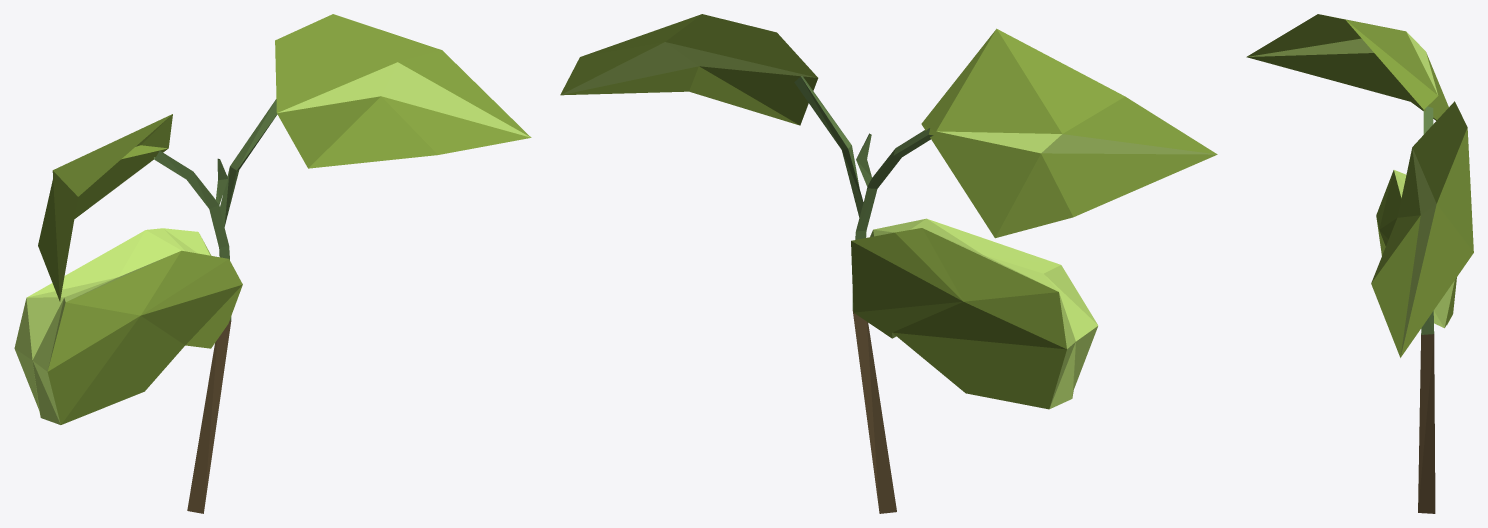
File: Beans_2.fbx
The picture shows the model from 3 angles, left to right: view 1: azimuth 30°, elevation 25°; view 2: azimuth 150°, elevation 25°; view 3: azimuth 270°, elevation 25°; orthographic projection. The views are drawn at different scales.
Visible parts, largest first — view 1: Beans_3; view 2: Beans_3; view 3: Beans_3.
Part boxes in pixels (bbox=[...]): Beans_3: bbox=[14, 14, 531, 513]; Beans_3: bbox=[560, 14, 1217, 513]; Beans_3: bbox=[1246, 14, 1473, 513].
Size of the model in its own units: 103 by 79.96 by 35.61.
